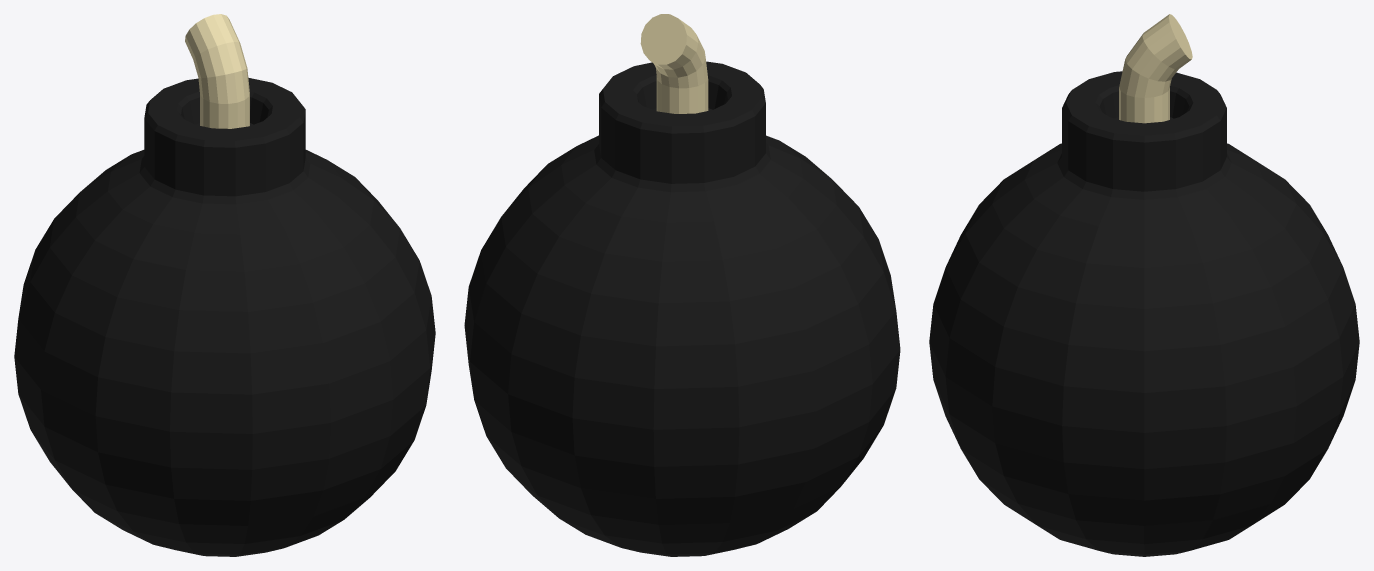
The model's file is Bomb 1.fbx.
3 renders of one model, left to right at view 1: azimuth 30°, elevation 25°; view 2: azimuth 150°, elevation 25°; view 3: azimuth 270°, elevation 25°, orthographic. The views are drawn at different scales.
Parts seen in each view (by area): view 1: Sphere; view 2: Sphere; view 3: Sphere.
Boxes of the visible parts, left/top/right/bottom form: Sphere: left=14, top=14, right=435, bottom=556; Sphere: left=464, top=14, right=900, bottom=556; Sphere: left=929, top=14, right=1359, bottom=556.
Size of the model in its own units: 200 by 267 by 200.
